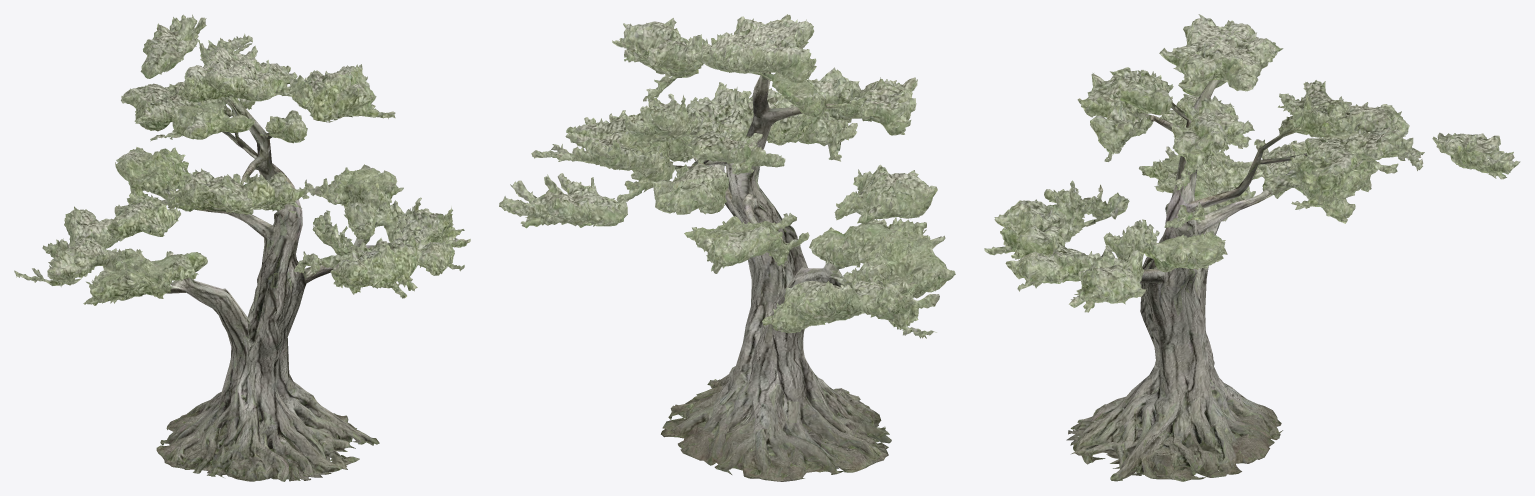
Rendered from olive-east-windswept.glb.
The picture shows the model from 3 angles, left to right: view 1: azimuth 30°, elevation 25°; view 2: azimuth 150°, elevation 25°; view 3: azimuth 270°, elevation 25°; orthographic projection. The views are drawn at different scales.
Parts seen in each view (by area): view 1: Mesh_0; view 2: Mesh_0; view 3: Mesh_0.
Part boxes in pixels (<box>): Mesh_0: <box>14,14,470,481</box>; Mesh_0: <box>499,14,955,481</box>; Mesh_0: <box>984,14,1520,481</box>.
Size of the model in its own units: 7.9 by 8 by 9.63.
1 material, 1 textured.
